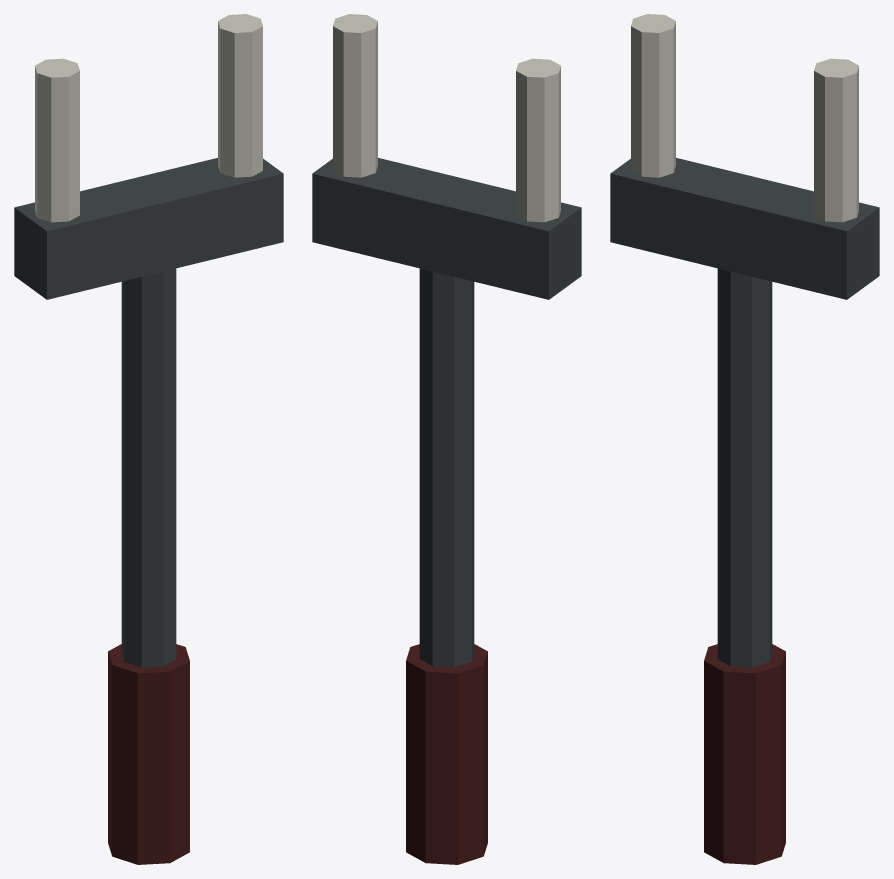
Rendered from Weapon.fbx.
The picture shows the model from 3 angles, left to right: view 1: azimuth 30°, elevation 25°; view 2: azimuth 150°, elevation 25°; view 3: azimuth 330°, elevation 25°; orthographic projection.
Parts seen in each view (by area): view 1: pCylinder5; view 2: pCylinder5; view 3: pCylinder5.
Part boxes in pixels (bbox=[...]): pCylinder5: bbox=[14, 14, 283, 864]; pCylinder5: bbox=[312, 14, 581, 864]; pCylinder5: bbox=[610, 14, 879, 864].
Size of the model in its own units: 2.58 by 8.37 by 0.8022.
